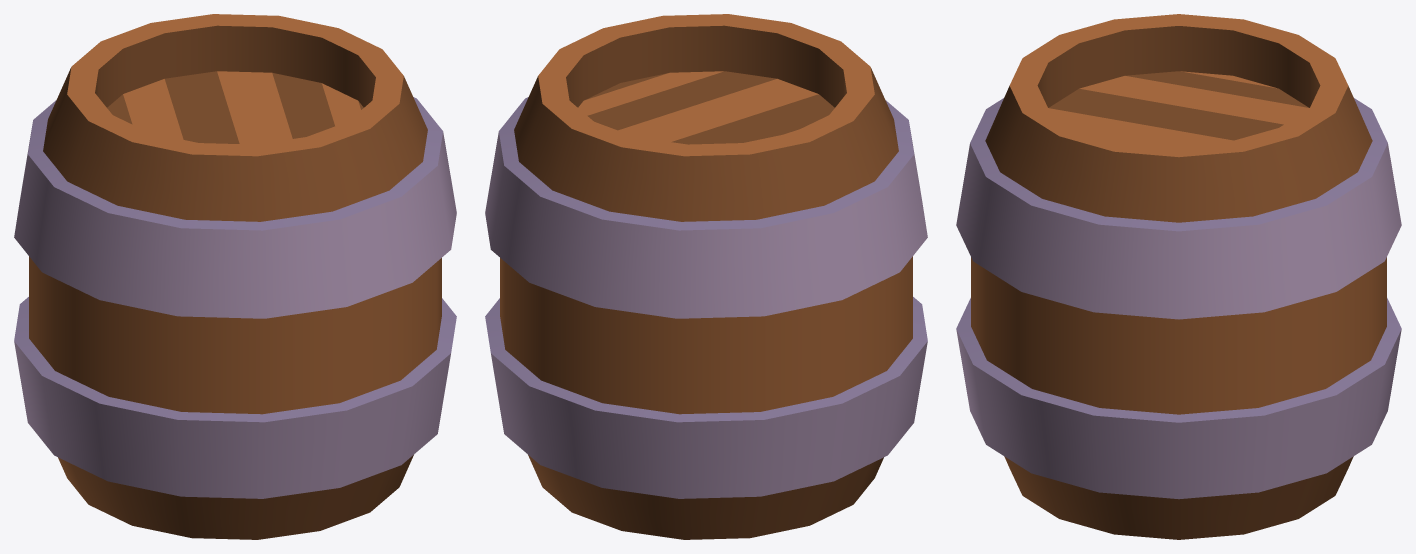
File: barel.fbx
3 views of the same model, side by side, from view 1: azimuth 30°, elevation 25°; view 2: azimuth 150°, elevation 25°; view 3: azimuth 270°, elevation 25° (orthographic).
Parts seen in each view (by area): view 1: barel; view 2: barel; view 3: barel.
Part boxes in pixels (<box>): barel: <box>14,14,456,539</box>; barel: <box>485,14,927,539</box>; barel: <box>956,14,1401,539</box>.
Bounding box in the file's own units: 2.63 × 2.49 × 2.63.
